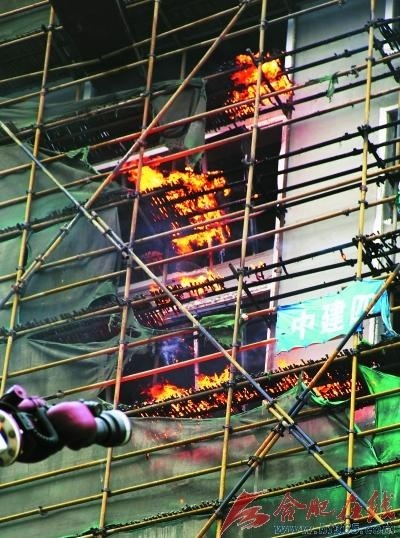fire: (129, 162, 232, 296), (142, 368, 250, 416), (228, 51, 293, 114)
